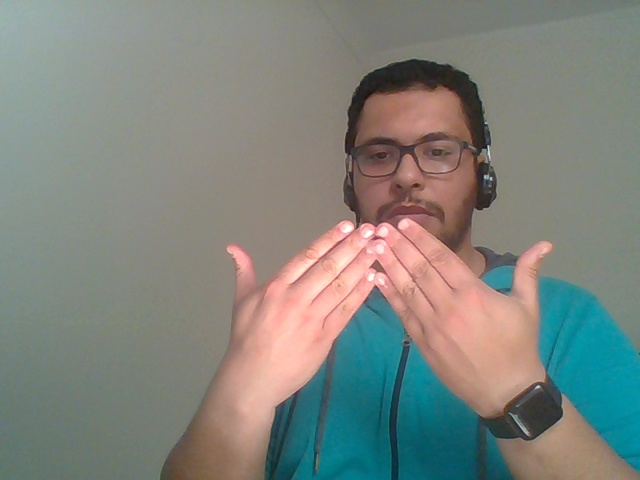thanks: (131, 200, 613, 480)
